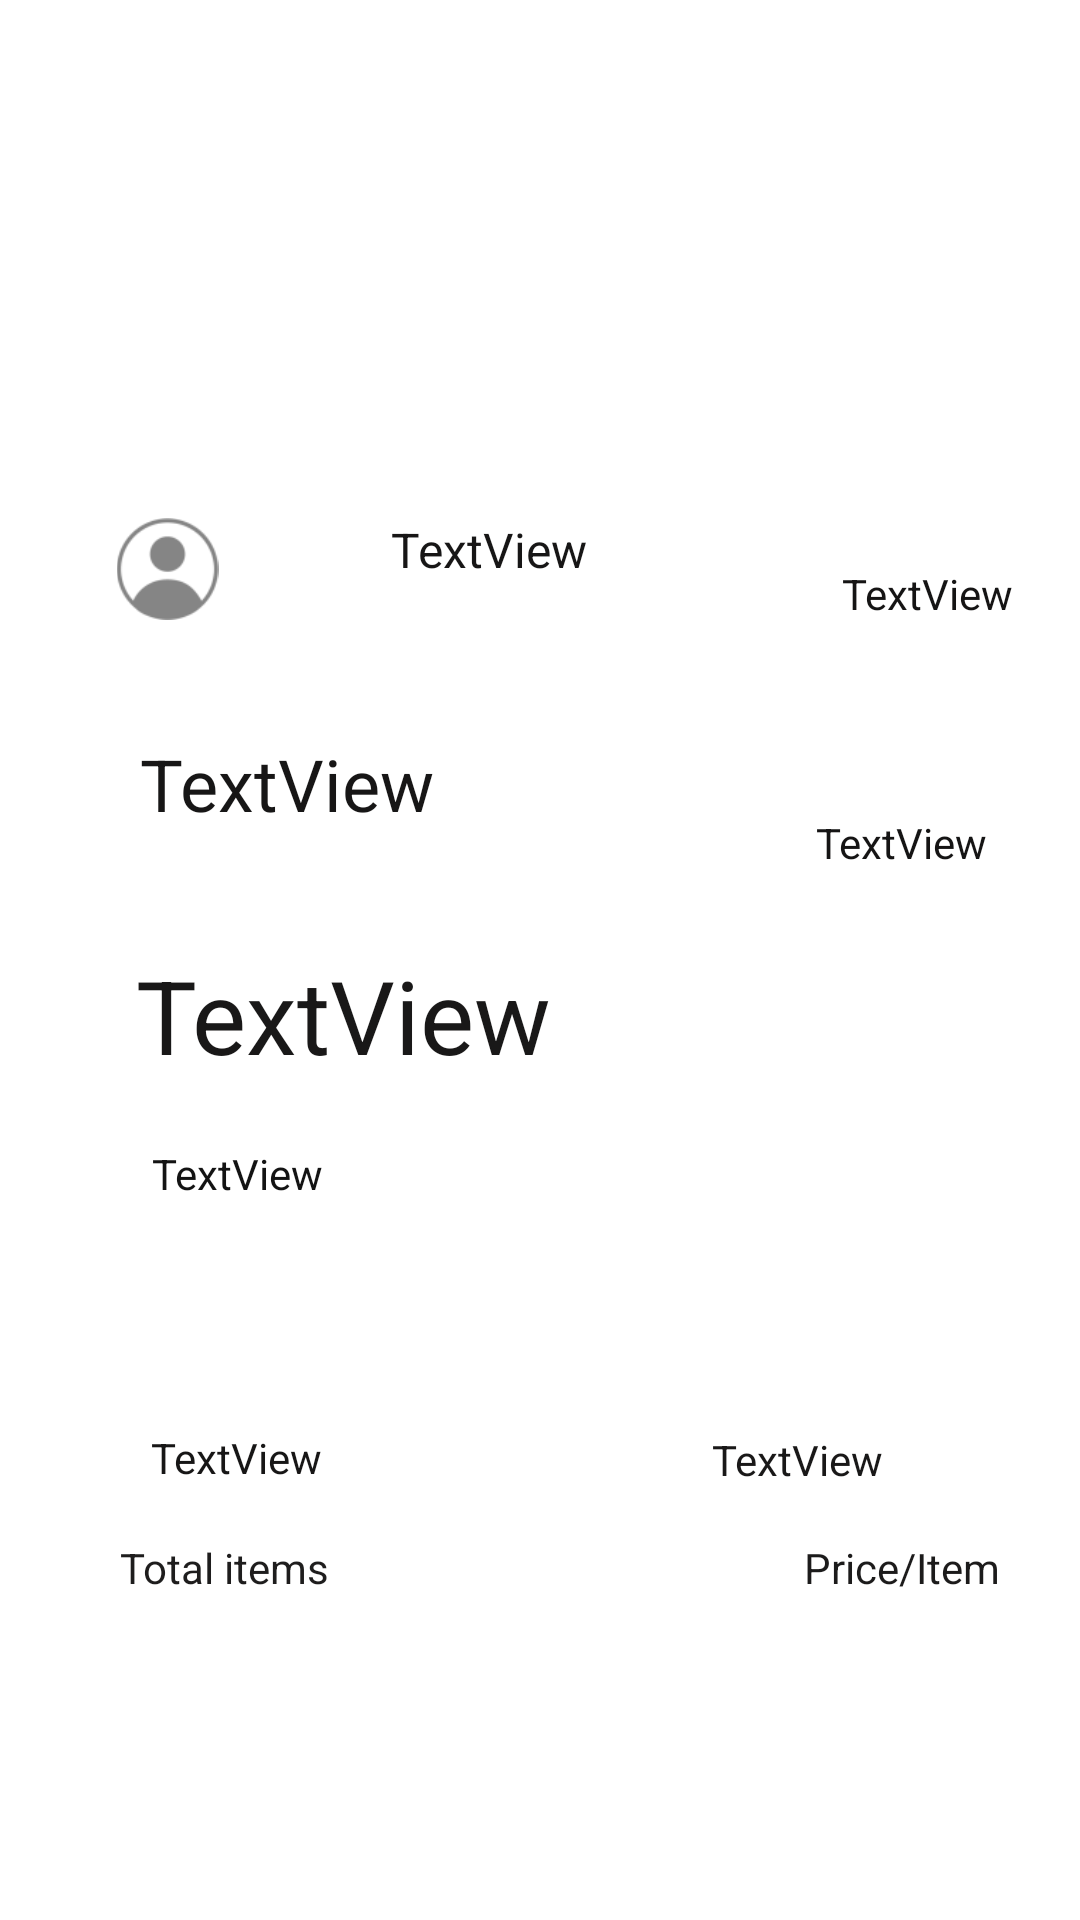

Named icons in this screenshot (1080x1920) and their centers, (x,y):
profile: (168,569)
